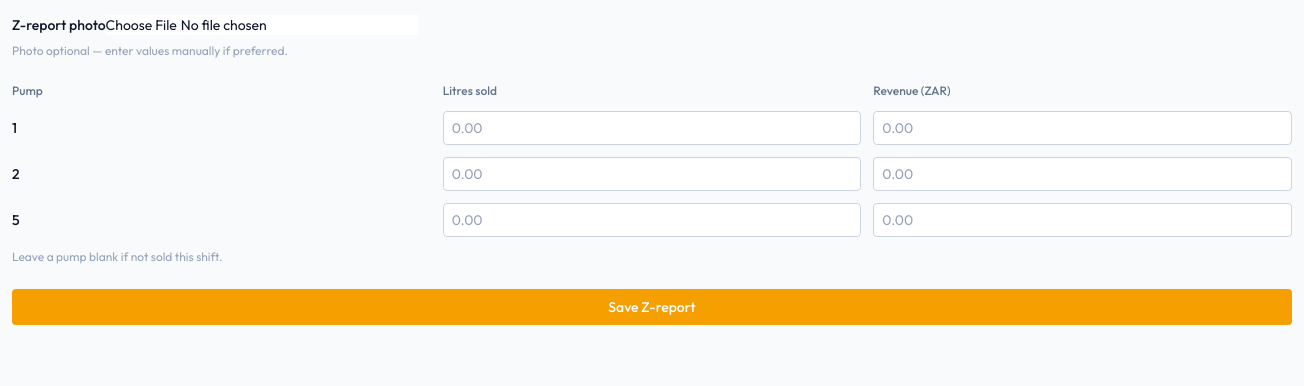
it: NozzlePosForm OCR summary line › does not navigate when redirectTo is omitted
In the 1st number field with placeholder "0.00": (652, 128) [443, 111, 861, 145], type "100"
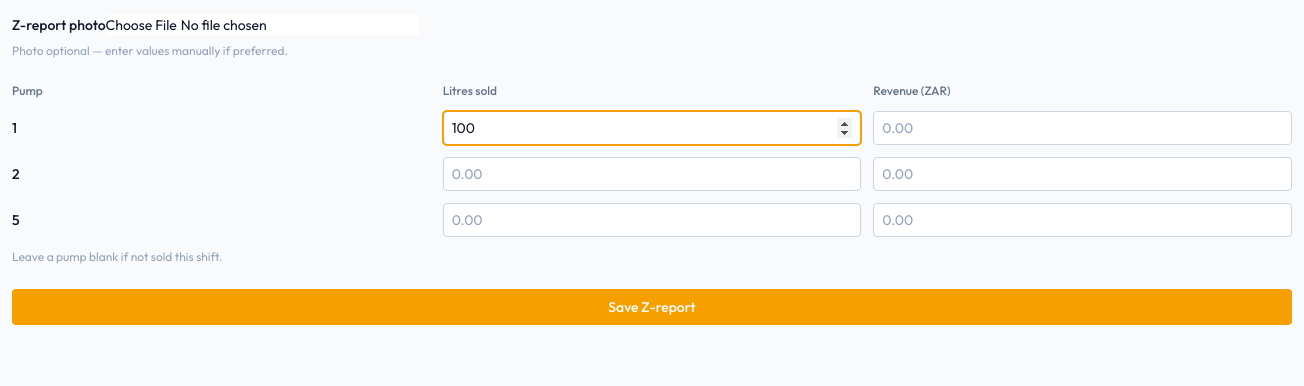
Click the button "Save Z-report": (652, 307) [12, 289, 1292, 325]
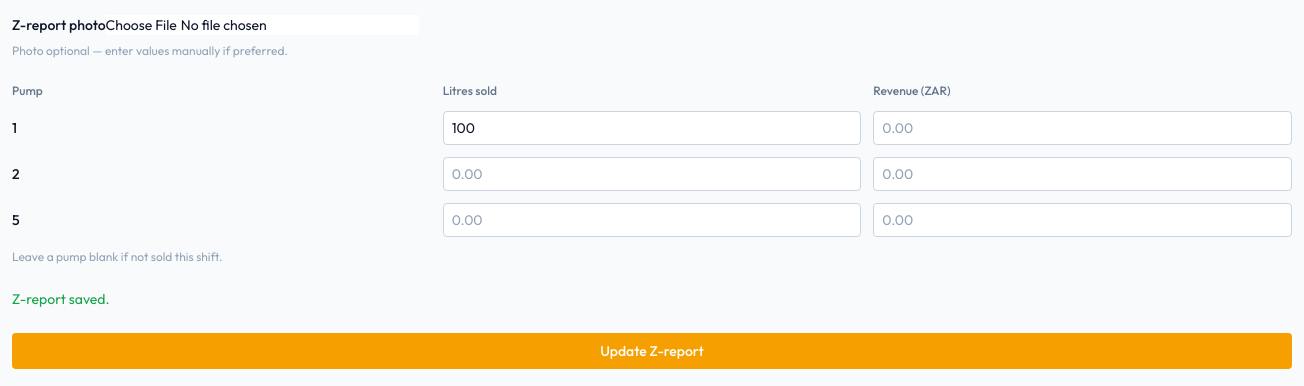
Expected: the text "Z-report saved." is shown, [12, 290, 110, 308]
